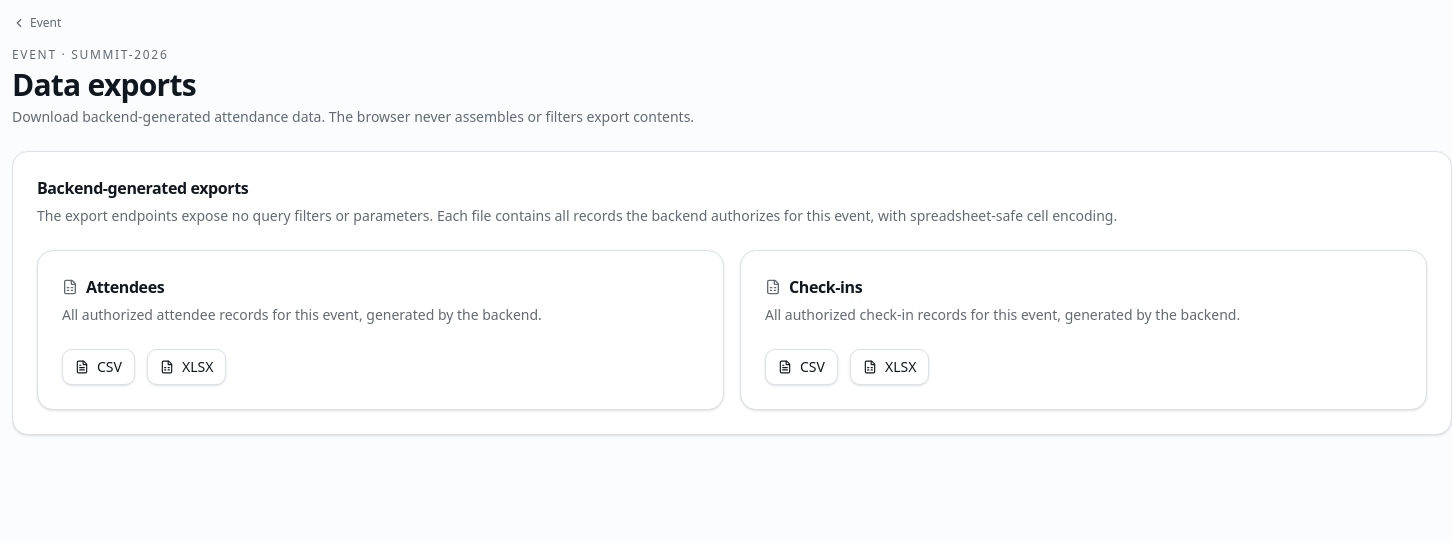
Test case: CSV and XLSX exports › downloads check-in XLSX with the spreadsheet content type
Step 1. Click the button with aria-label "Download check-ins XLSX" → [890, 367], box [850, 349, 929, 385]
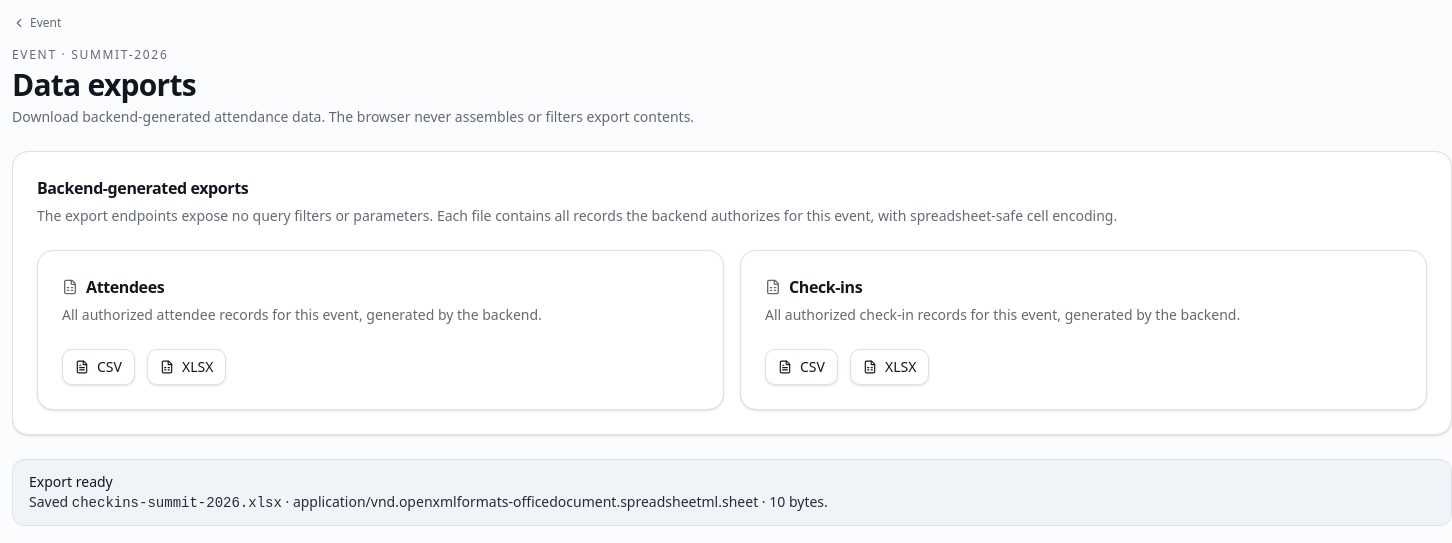
Result: the message shows "checkins-summit-2026.xlsx" at [72, 495, 282, 511]
Result: the message shows "application/vnd.openxmlformats-officedocument.spreadsheetml.sheet" at [293, 492, 758, 511]
Result: the text "checkins-summit-2026.xlsx" is shown at [72, 495, 282, 511]
